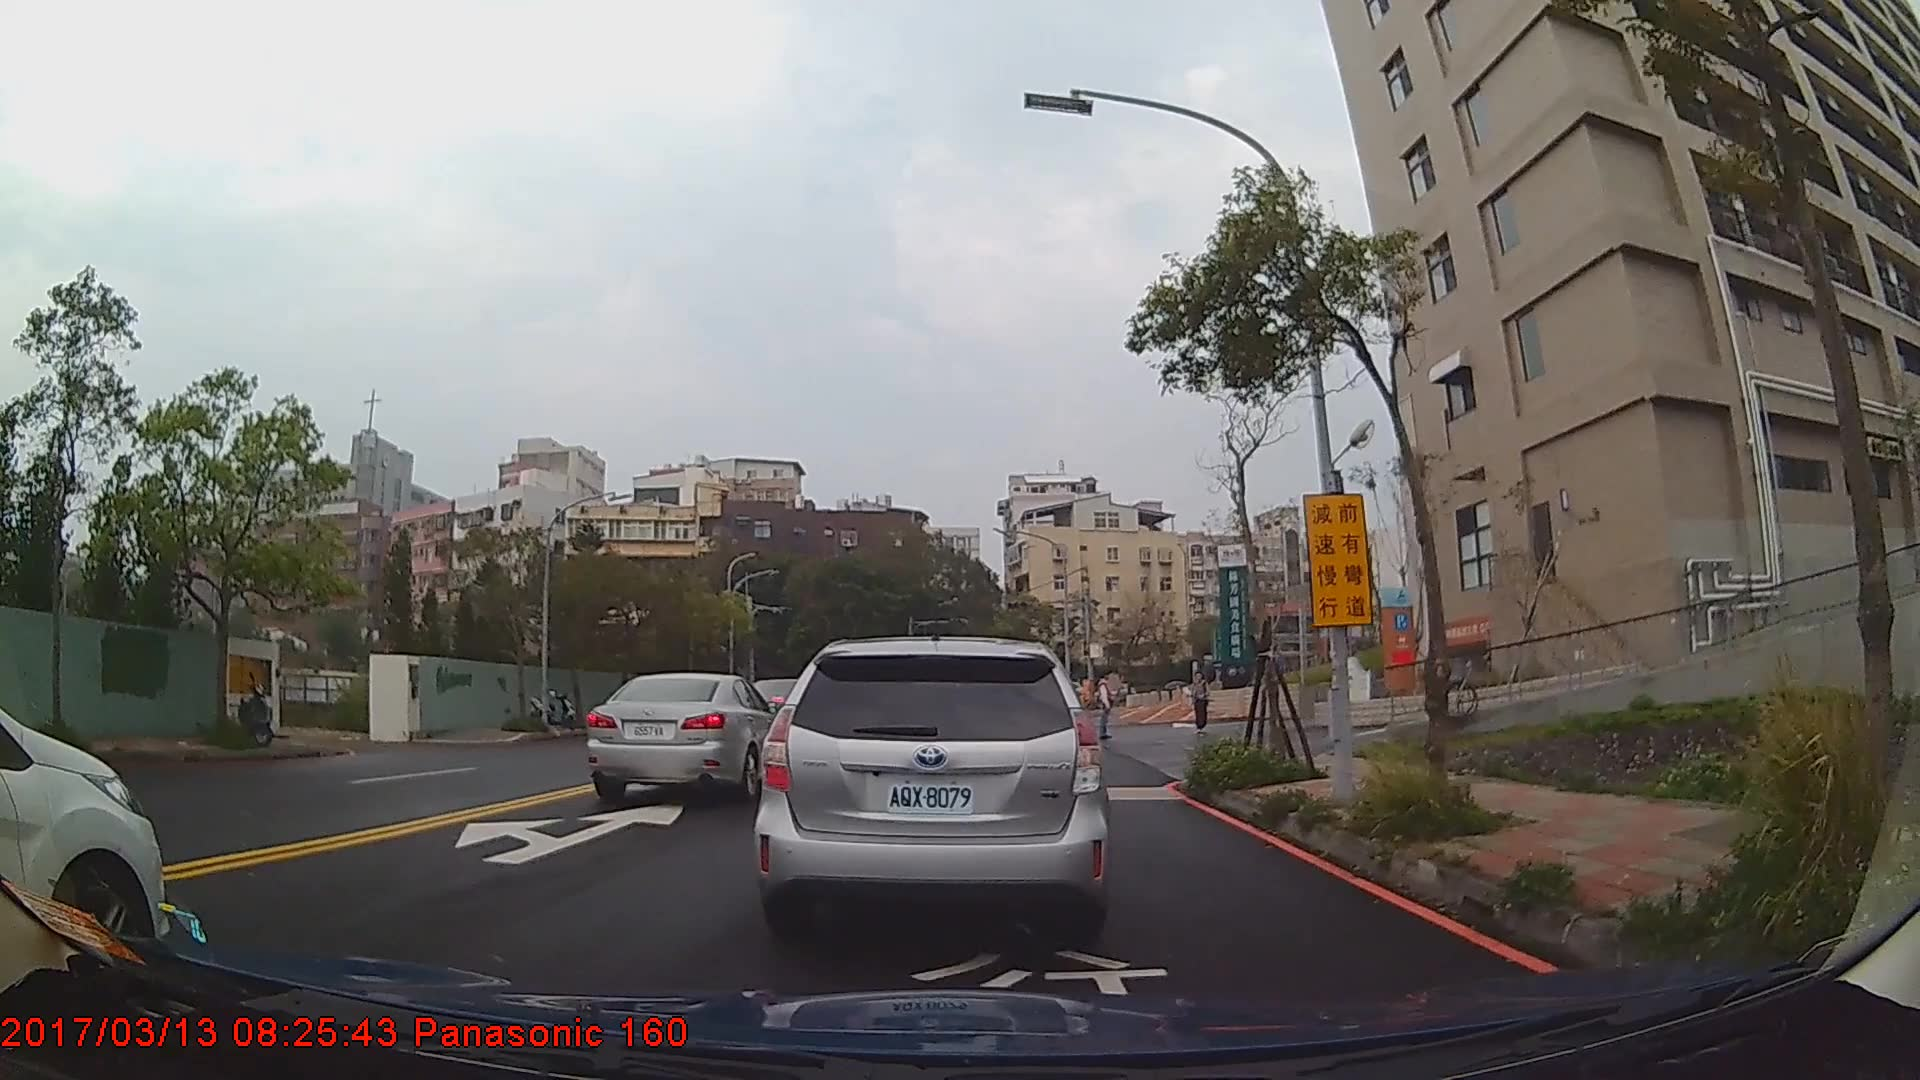pedestrian: (1096, 667, 1119, 743), (1191, 674, 1211, 735)
vehicle: (755, 637, 1112, 944), (0, 697, 168, 971), (582, 672, 785, 805)
